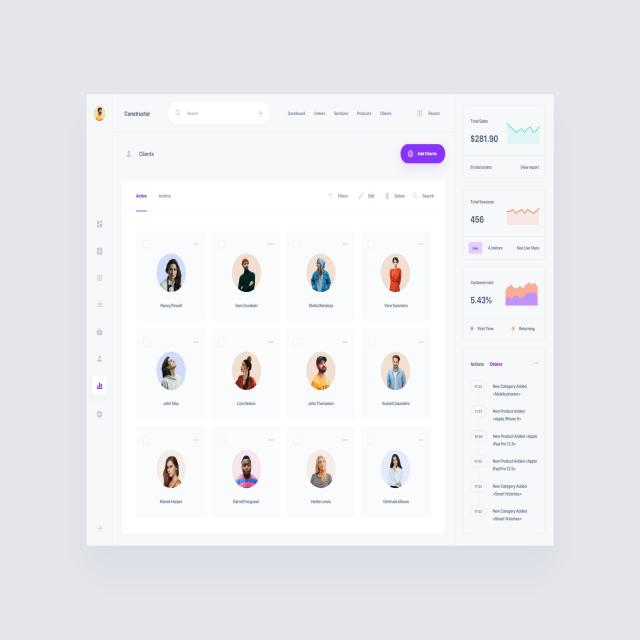button: (400, 143, 446, 164)
input: (168, 100, 270, 126)
